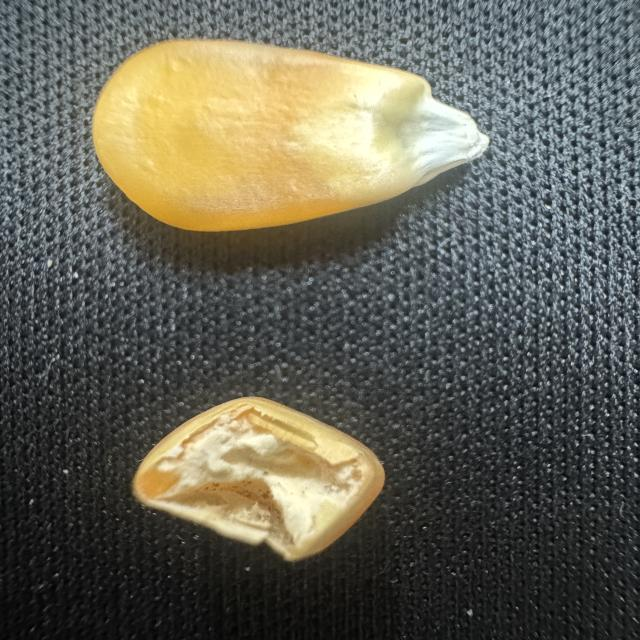Bad-Seed: (119, 391, 384, 569)
Good-Seed: (87, 34, 497, 242)
